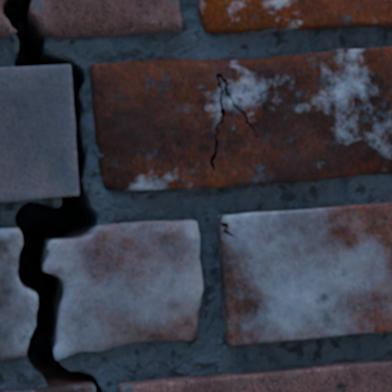brick: (91, 47, 391, 189), (217, 203, 391, 344), (0, 66, 77, 201), (119, 360, 391, 391), (198, 0, 391, 32), (2, 384, 94, 391)
broken_brick: (45, 219, 203, 360), (32, 0, 182, 38), (0, 227, 36, 360), (0, 8, 11, 38)
crack: (0, 0, 104, 391), (219, 213, 233, 237)
